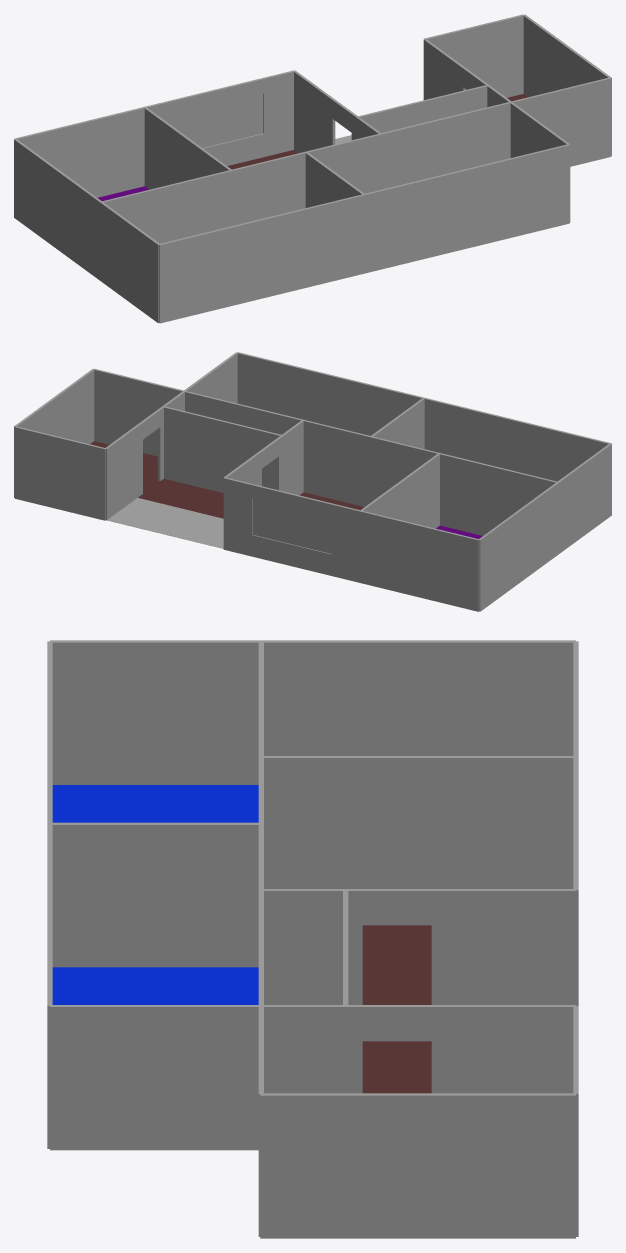
3 renders of one model, top to bottom at view 1: azimuth 30°, elevation 25°; view 2: azimuth 150°, elevation 25°; view 3: azimuth 270°, elevation 25°, orthographic. The views are drawn at different scales.
Parts seen in each view (by area): view 1: pCube25, pCube26, pCube17, pCube23, pCube14, pCube22, pCube24, pCube39, pCube16, pCube27, pCube15, pCube11 (+7 smaller); view 2: pCube23, pCube26, pCube25, pCube39, pCube22, pCube15, pCube18, pCube14, pCube24, pCube16, pCube27, pCube40 (+10 smaller); view 3: pCube11, pCube13, pCube14, pCube29, pCube36, pCube28, pCube27, pCube40, pCube6, pCube5, pCube4, pCube3 (+6 smaller).
Part boxes in pixels (bbox=[...]): pCube25: bbox=[159, 194, 364, 323]; pCube26: bbox=[364, 144, 569, 273]; pCube17: bbox=[381, 101, 510, 189]; pCube23: bbox=[14, 107, 144, 197]; pCube14: bbox=[14, 139, 102, 280]; pCube22: bbox=[231, 134, 381, 225]; pCube24: bbox=[101, 170, 231, 243]; pCube39: bbox=[144, 70, 294, 165]; pCube16: bbox=[511, 78, 610, 166]; pCube27: bbox=[100, 202, 160, 323]; pCube15: bbox=[424, 14, 523, 97]; pCube11: bbox=[523, 14, 611, 156]; pCube23: bbox=[360, 510, 479, 611]; pCube26: bbox=[237, 352, 424, 435]; pCube25: bbox=[424, 397, 611, 481]; pCube39: bbox=[223, 477, 360, 582]; pCube22: bbox=[303, 419, 439, 506]; pCube15: bbox=[15, 426, 105, 520]; pCube18: bbox=[164, 406, 281, 492]; pCube14: bbox=[479, 482, 559, 611]; pCube24: bbox=[439, 453, 557, 535]; pCube16: bbox=[94, 369, 184, 456]; pCube27: bbox=[557, 443, 611, 553]; pCube40: bbox=[105, 390, 185, 520]; pCube11: bbox=[260, 1093, 575, 1238]; pCube13: bbox=[261, 756, 575, 888]; pCube14: bbox=[260, 640, 575, 755]; pCube29: bbox=[50, 1005, 260, 1150]; pCube36: bbox=[264, 889, 575, 1004]; pCube28: bbox=[50, 822, 259, 967]; pCube27: bbox=[50, 640, 260, 784]; pCube40: bbox=[260, 1005, 575, 1093]; pCube6: bbox=[52, 785, 258, 822]; pCube5: bbox=[52, 967, 258, 1004]; pCube4: bbox=[362, 925, 431, 1004]; pCube3: bbox=[362, 1041, 431, 1093].
Size of the model in its own units: 5120 by 750 by 2525.
